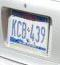3: (35, 25, 40, 43)
4: (30, 24, 35, 41)
9: (40, 26, 45, 44)
B: (22, 22, 27, 39)
C: (17, 20, 22, 38)
K: (11, 18, 17, 37)
